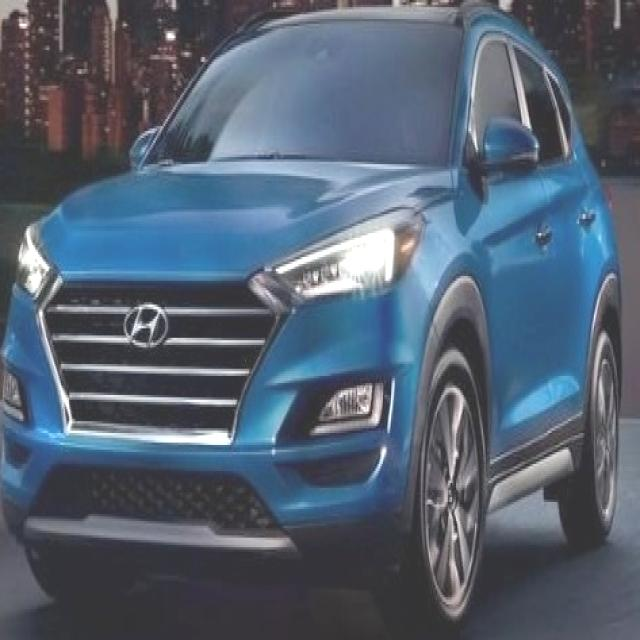blue: (9, 12, 638, 640)
